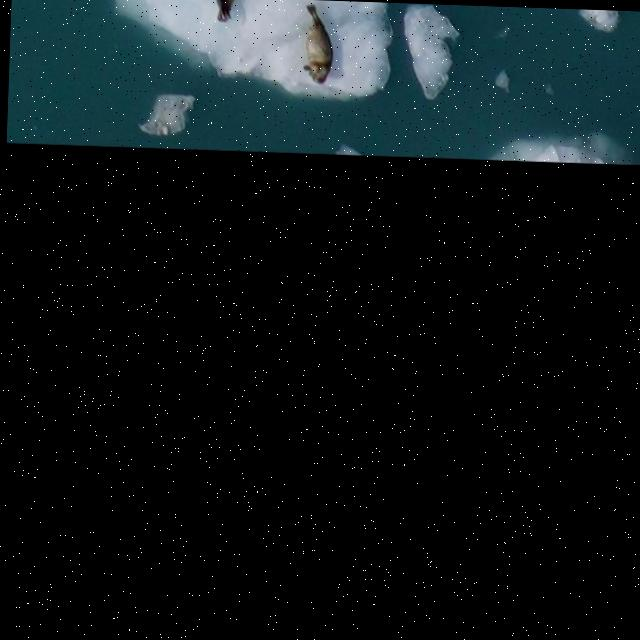seal: (303, 3, 331, 83), (216, 0, 234, 20)
